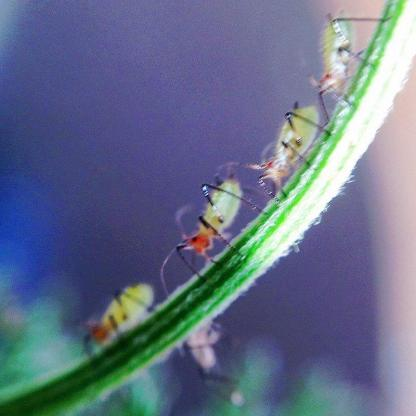aphid: (162, 162, 258, 272), (252, 94, 330, 187), (79, 274, 163, 352), (311, 4, 373, 109)
